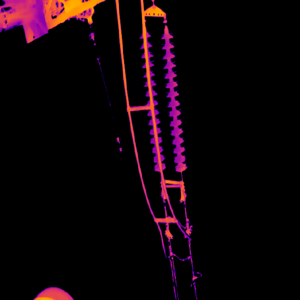insulator: (137, 18, 164, 172), (161, 23, 187, 171)
